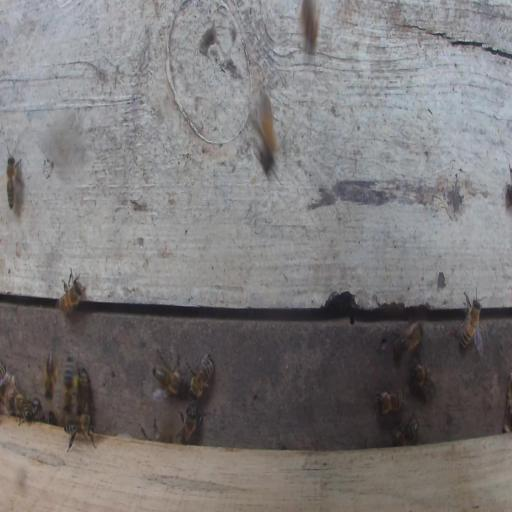nonpollenbee: (258, 91, 280, 165), (63, 412, 97, 452), (152, 354, 184, 396), (187, 354, 214, 401), (409, 357, 436, 403), (54, 278, 85, 317), (299, 1, 321, 55), (460, 298, 481, 350), (393, 322, 423, 357), (177, 401, 200, 444), (391, 415, 419, 447), (6, 154, 22, 210), (374, 387, 404, 415), (77, 366, 90, 412), (10, 395, 30, 422), (32, 397, 41, 420), (48, 410, 57, 426)
pollenbee: (63, 355, 78, 415), (44, 352, 58, 402)
